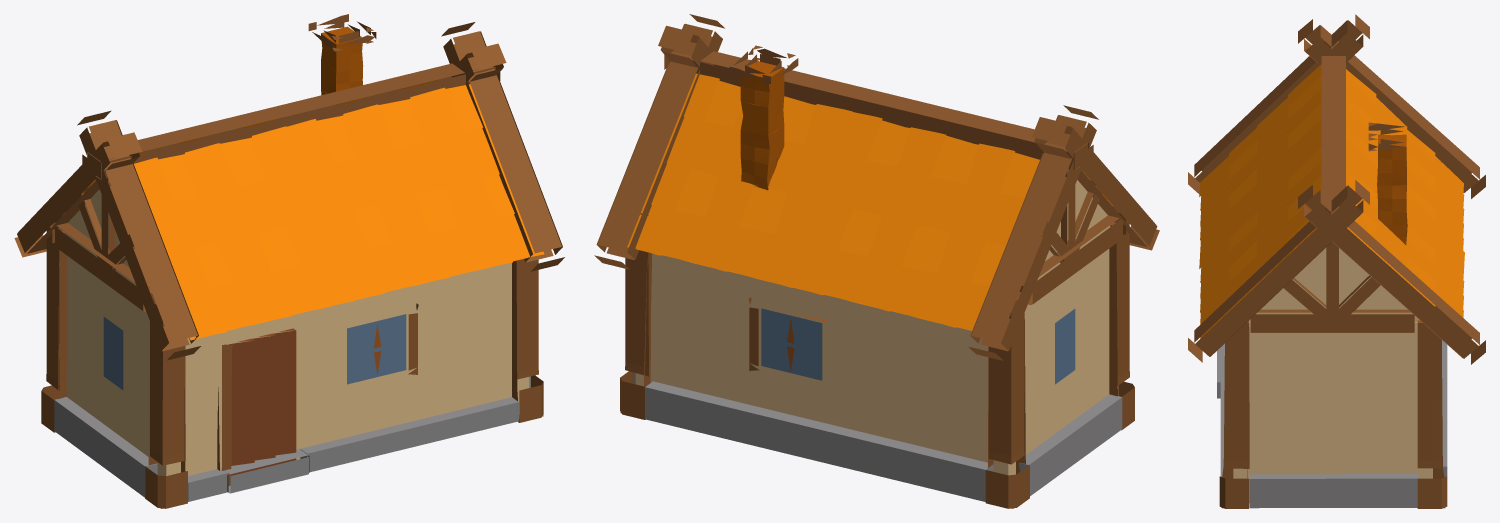
File: decorLarge-village-25.glb
3 renders of one model, left to right at view 1: azimuth 30°, elevation 25°; view 2: azimuth 150°, elevation 25°; view 3: azimuth 270°, elevation 25°, orthographic. The views are drawn at different scales.
Visible parts, largest first — view 1: piece; view 2: piece; view 3: piece.
Boxes of the visible parts, x1,y1,x2,y2 form: piece: [14, 14, 564, 508]; piece: [594, 14, 1159, 508]; piece: [1188, 14, 1485, 508].
Bounding box in the file's own units: 15.6 × 12.89 × 10.67.
Materials: 1 (1 with a texture image).
